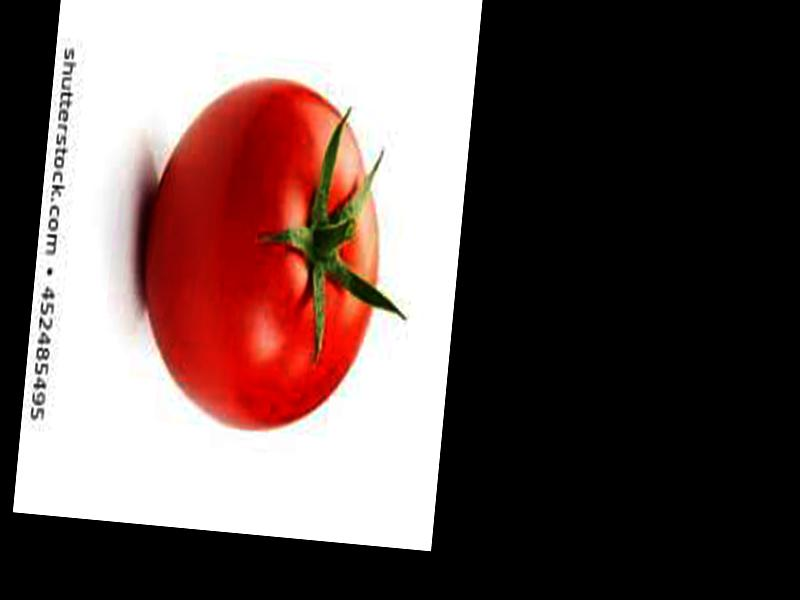Tomato: (128, 73, 393, 435)
